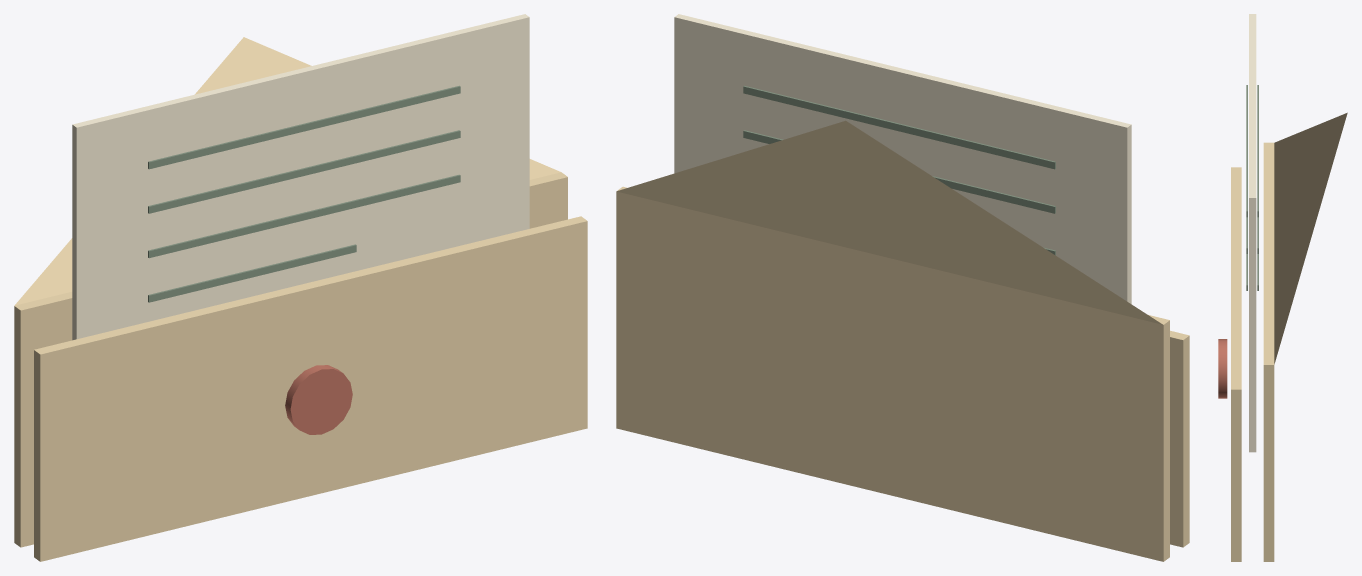
Rendered from kind-note.glb.
The picture shows the model from 3 angles, left to right: view 1: azimuth 30°, elevation 25°; view 2: azimuth 150°, elevation 25°; view 3: azimuth 270°, elevation 25°; orthographic projection. The views are drawn at different scales.
Parts seen in each view (by area): view 1: Kind note and envelope, Sheet, Flap; view 2: Kind note and envelope, Sheet, Flap; view 3: Kind note and envelope, Flap, Sheet.
Boxes of the visible parts, x1=… form: Kind note and envelope: x1=14, y1=172, x2=587, y2=561; Sheet: x1=72, y1=14, x2=529, y2=340; Flap: x1=14, y1=37, x2=560, y2=305; Kind note and envelope: x1=616, y1=186, x2=1189, y2=561; Sheet: x1=674, y1=14, x2=1131, y2=303; Flap: x1=617, y1=120, x2=1162, y2=324; Kind note and envelope: x1=1218, y1=142, x2=1274, y2=561; Flap: x1=1274, y1=112, x2=1347, y2=364; Sheet: x1=1246, y1=14, x2=1258, y2=452.
Size of the model in its own units: 0.58 by 0.42 by 0.1429.
